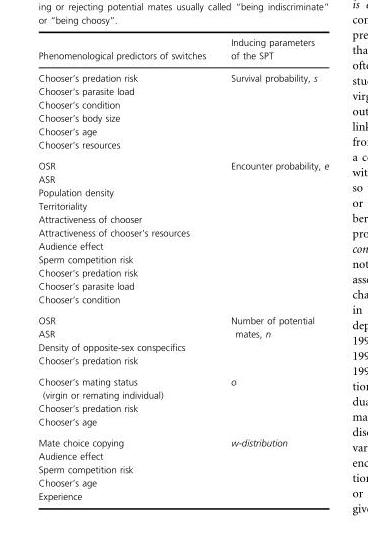table: (37, 37, 328, 501)
table column: (37, 37, 217, 501), (217, 37, 328, 501)
table column header: (37, 37, 328, 66)
table row: (37, 371, 328, 401), (37, 37, 328, 66), (37, 66, 328, 84), (37, 292, 328, 310), (37, 138, 328, 155), (37, 155, 328, 172), (37, 310, 328, 327), (37, 354, 328, 371), (37, 415, 328, 432), (37, 432, 328, 449), (37, 84, 328, 98), (37, 124, 328, 138), (37, 172, 328, 186), (37, 212, 328, 226), (37, 252, 328, 266), (37, 340, 328, 354), (37, 401, 328, 415), (37, 462, 328, 476), (37, 98, 328, 111), (37, 111, 328, 124), (37, 186, 328, 199), (37, 199, 328, 212), (37, 226, 328, 239), (37, 239, 328, 252), (37, 266, 328, 279), (37, 279, 328, 292), (37, 327, 328, 340), (37, 449, 328, 462), (37, 476, 328, 489), (37, 489, 328, 501)
table spanning cell: (217, 155, 328, 310), (217, 66, 328, 155), (217, 432, 328, 501), (217, 310, 328, 371), (217, 371, 328, 432)
